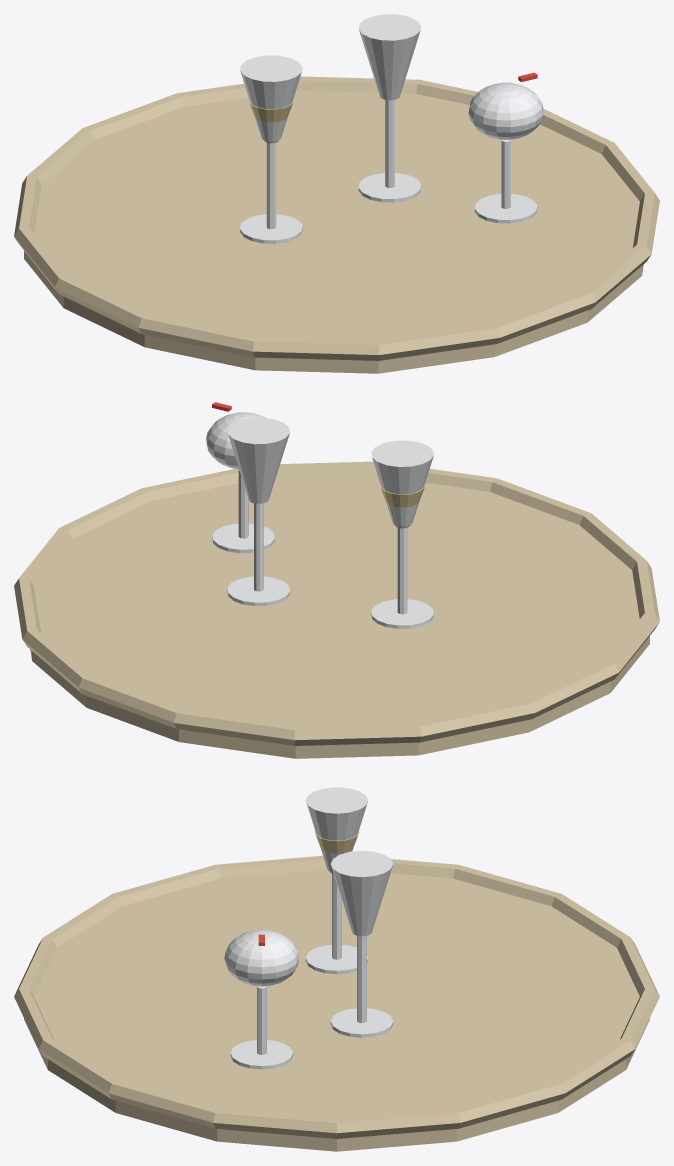
Rendered from champagne_glasses.glb.
3 views of the same model, one above another, from view 1: azimuth 30°, elevation 25°; view 2: azimuth 150°, elevation 25°; view 3: azimuth 270°, elevation 25° (orthographic).
Parts seen in each view (by area): view 1: ChampagneGlasses; view 2: ChampagneGlasses; view 3: ChampagneGlasses.
Boxes of the visible parts, box(x1,y1,x2,y2) form: ChampagneGlasses: box(14, 14, 659, 373); ChampagneGlasses: box(14, 402, 659, 758); ChampagneGlasses: box(14, 787, 659, 1151).
Bounding box in the file's own units: 0.516 × 0.165 × 0.516.
